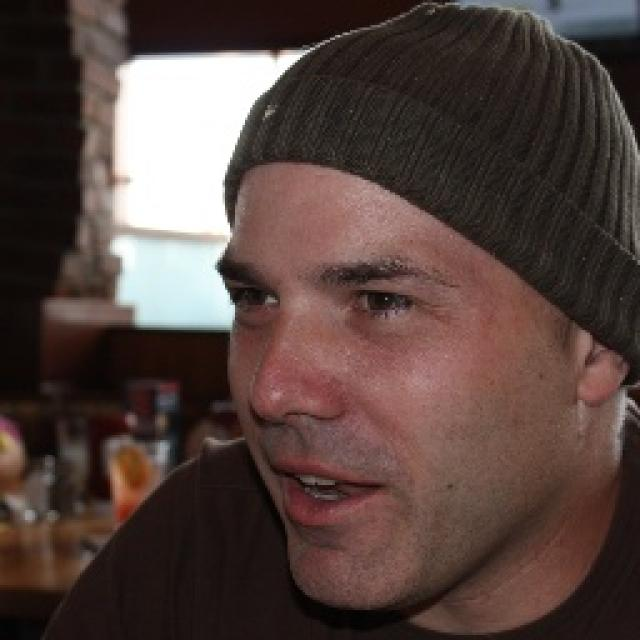earlobe: (577, 356, 621, 407)
eye: (346, 288, 418, 316), (230, 286, 278, 314)
nose: (254, 406, 357, 462)
